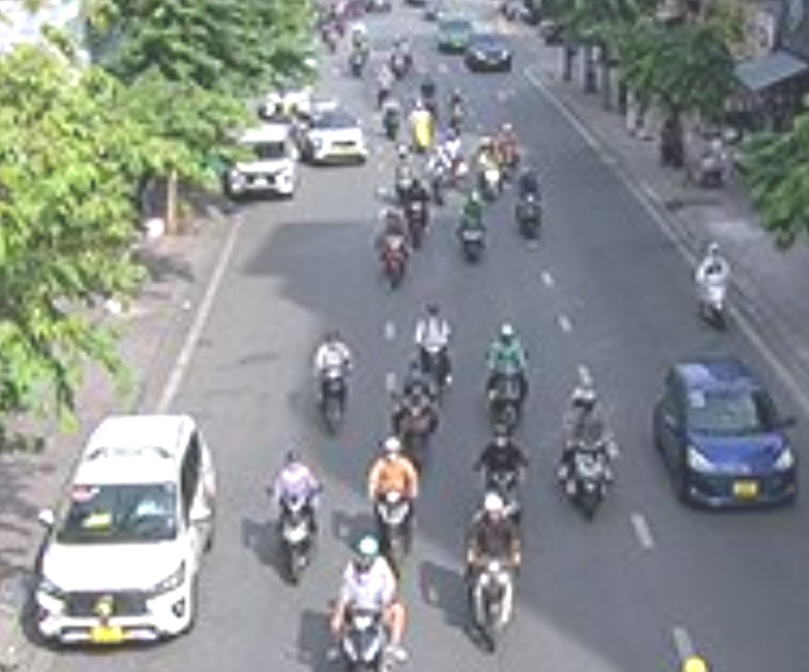car: (27, 415, 221, 649), (644, 353, 804, 520), (229, 122, 300, 201), (305, 106, 370, 170), (465, 36, 517, 74)
